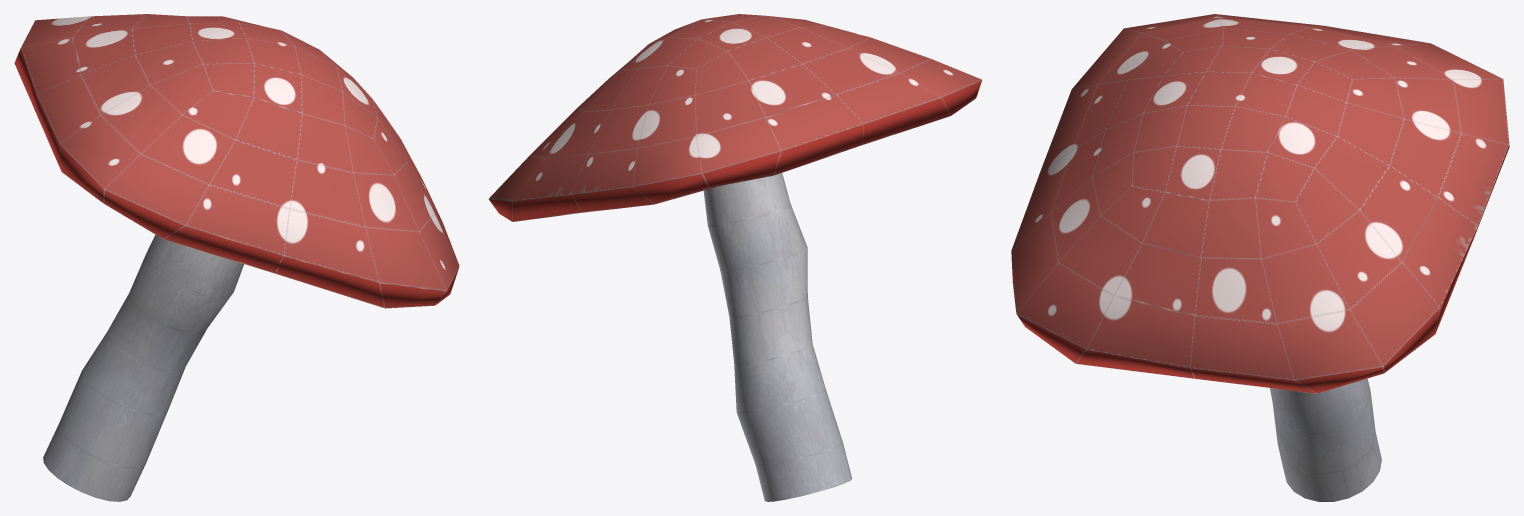
Rendered from MushroomAlternative2.fbx.
The picture shows the model from 3 angles, left to right: view 1: azimuth 30°, elevation 25°; view 2: azimuth 150°, elevation 25°; view 3: azimuth 270°, elevation 25°; orthographic projection. The views are drawn at different scales.
Parts seen in each view (by area): view 1: pCylinder13; view 2: pCylinder13; view 3: pCylinder13.
Boxes of the visible parts, x1,y1,x2,y2 form: pCylinder13: (14,14,459,501); pCylinder13: (489,14,982,501); pCylinder13: (1011,14,1509,501).
Size of the model in its own units: 0.4804 by 0.5194 by 0.4961.
Materials: 1 (1 with a texture image).
